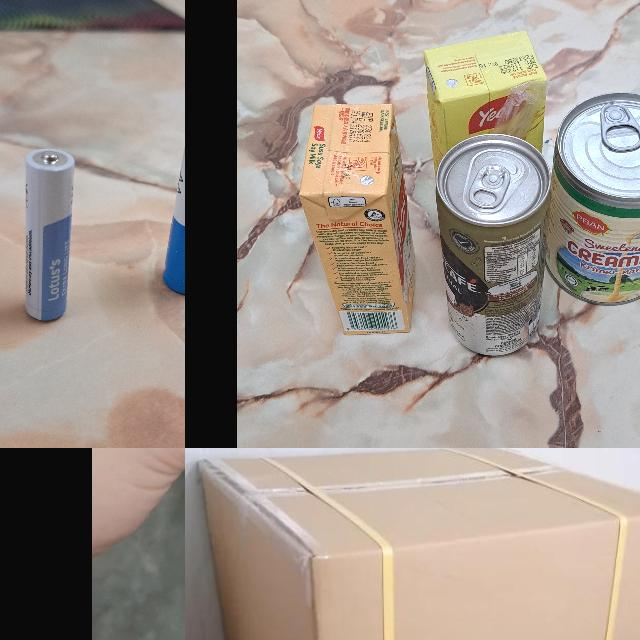aba de lata: (600, 104, 640, 151), (468, 166, 512, 208)
bateria: (25, 148, 75, 322), (163, 111, 185, 295)
caixinha: (298, 104, 416, 336), (424, 30, 548, 176)
lata: (433, 134, 552, 356), (542, 93, 640, 306)
papelão: (195, 448, 640, 640)
